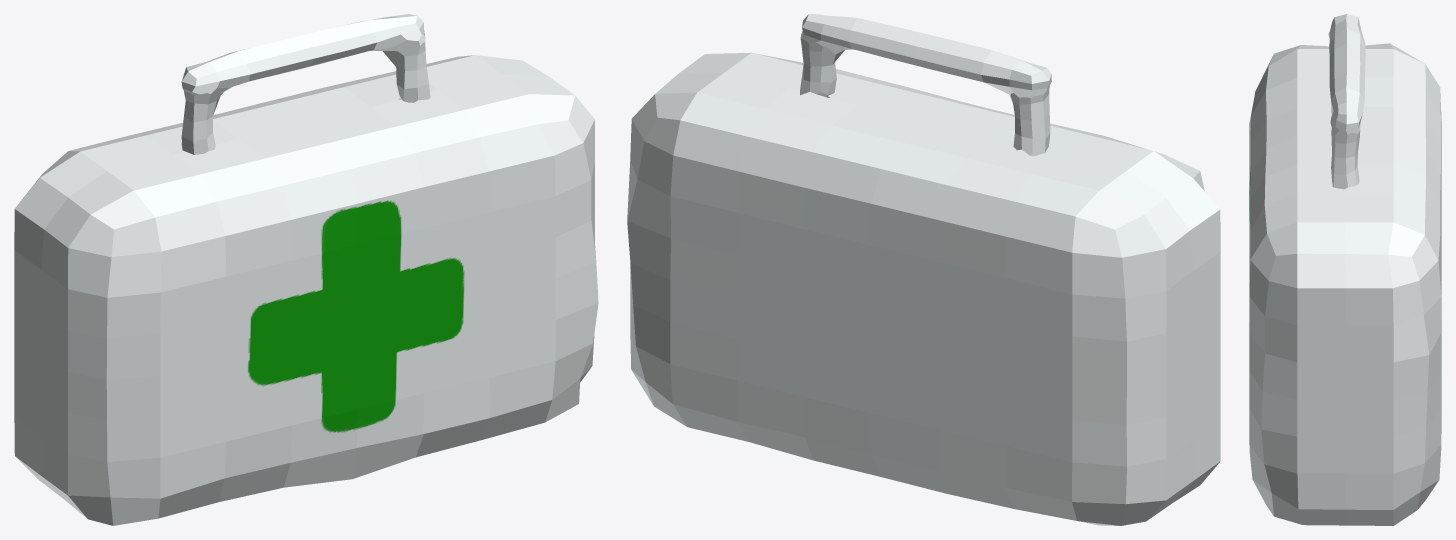
File: health.fbx
3 views of the same model, side by side, from view 1: azimuth 30°, elevation 25°; view 2: azimuth 150°, elevation 25°; view 3: azimuth 270°, elevation 25° (orthographic). The views are drawn at different scales.
Parts seen in each view (by area): view 1: Cube.002, Cube.004; view 2: Cube.002, Cube.004; view 3: Cube.002, Cube.004.
Boxes of the visible parts, box(x1,y1,x2,y2) form: Cube.002: box(14, 55, 598, 525); Cube.004: box(181, 14, 430, 154); Cube.002: box(627, 52, 1220, 525); Cube.004: box(800, 14, 1051, 156); Cube.002: box(1249, 43, 1441, 525); Cube.004: box(1328, 14, 1365, 189).
Size of the model in its own units: 200 by 151 by 70.24.
